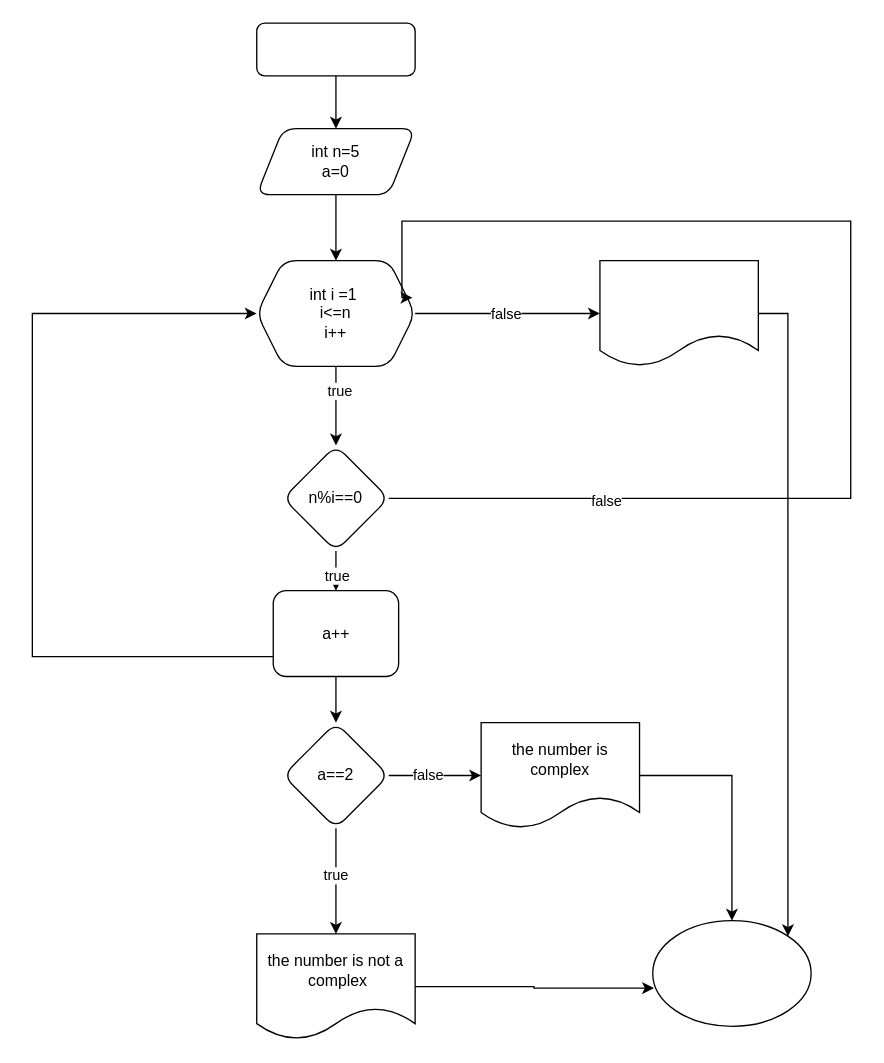
Some shapes in this 884 by 1063 pixel diagram are drawn without their labels. The shapes that lost their labels are listed below. From the top down, each one's centre as x and y in pixels, then its label:
At point 335,49: "start".
At point 678,312: "checking the divisions of the given nmber".
At point 731,972: "end".
